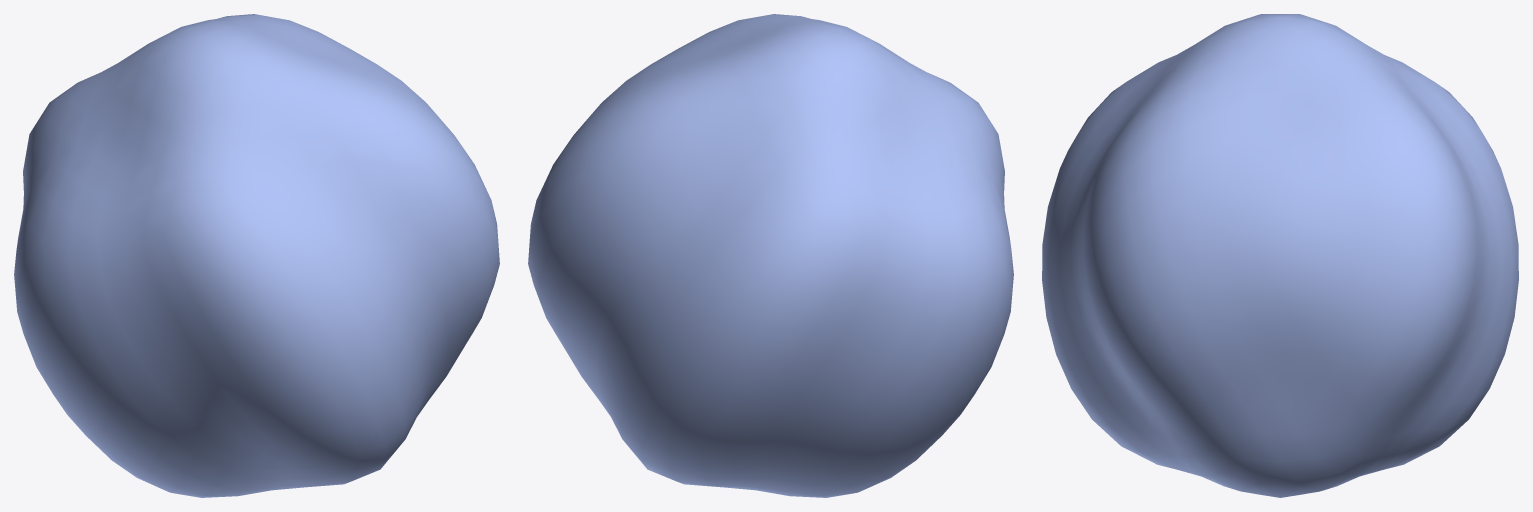
File: breeze.glb
The picture shows the model from 3 angles, left to right: view 1: azimuth 30°, elevation 25°; view 2: azimuth 150°, elevation 25°; view 3: azimuth 270°, elevation 25°; orthographic projection. The views are drawn at different scales.
Visible parts, largest first — view 1: breeze_core; view 2: breeze_core; view 3: breeze_core.
Part boxes in pixels (x1,y1,x2,y2): breeze_core: (14,14,499,497); breeze_core: (528,14,1013,497); breeze_core: (1042,14,1518,497).
Bounding box in the file's own units: 2.5 × 2.61 × 2.57.
